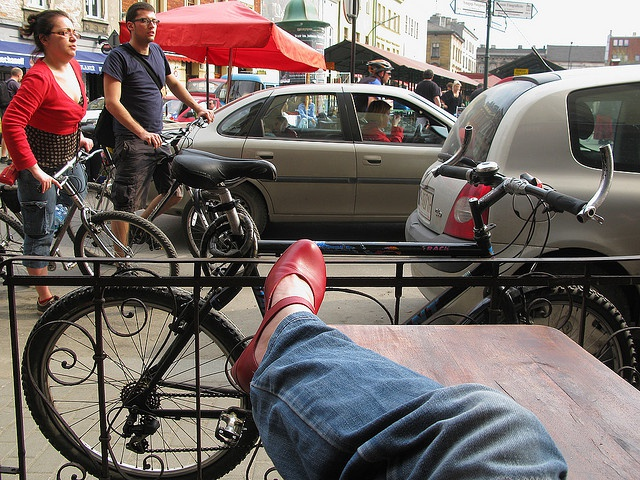non-vehicle: (19, 126, 638, 471), (0, 147, 181, 284), (66, 118, 227, 258)
